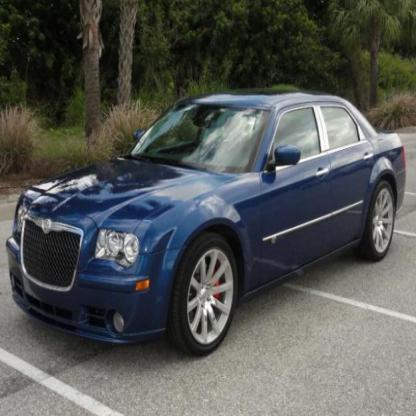Vehicle: (5, 92, 408, 362)
